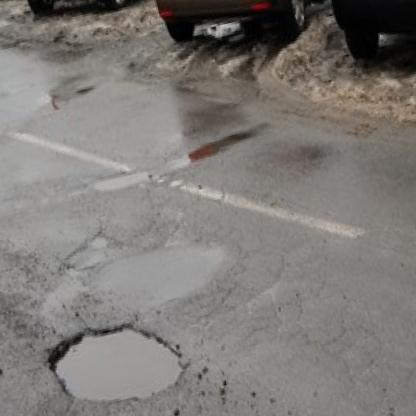pothole: (42, 308, 190, 416)
